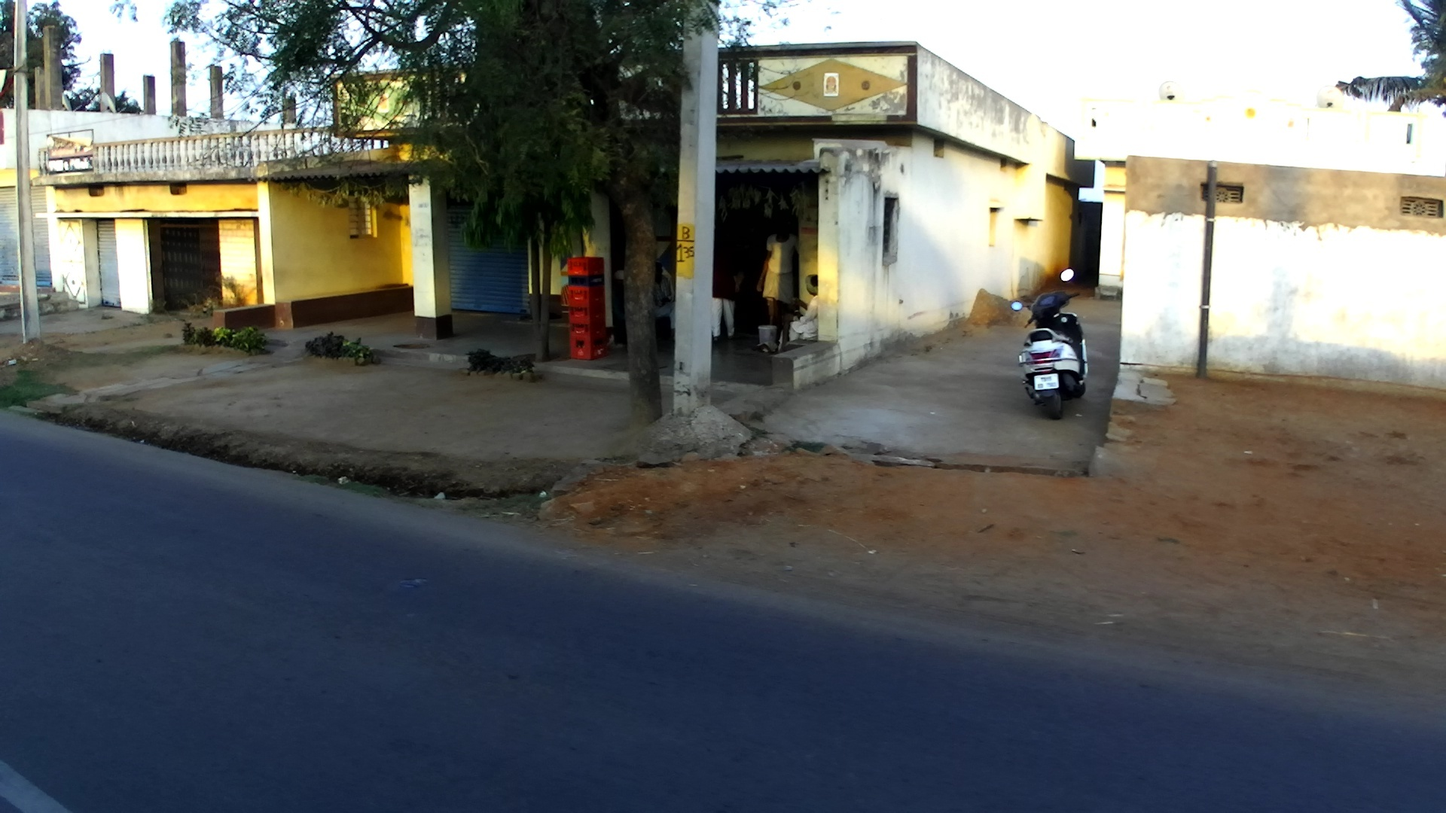motorcycle: (1006, 264, 1091, 421)
person: (758, 209, 798, 352), (704, 224, 740, 343), (788, 270, 820, 354), (648, 261, 676, 342)
